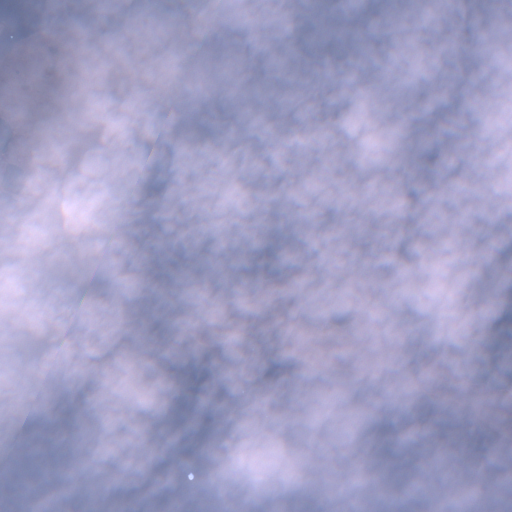Iceberg: (188, 473, 193, 479), (11, 36, 12, 37)
